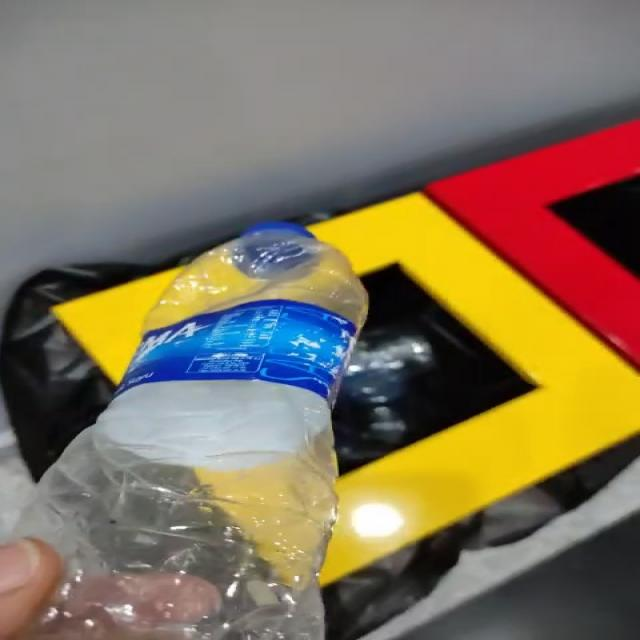plastic: (16, 223, 368, 640)
